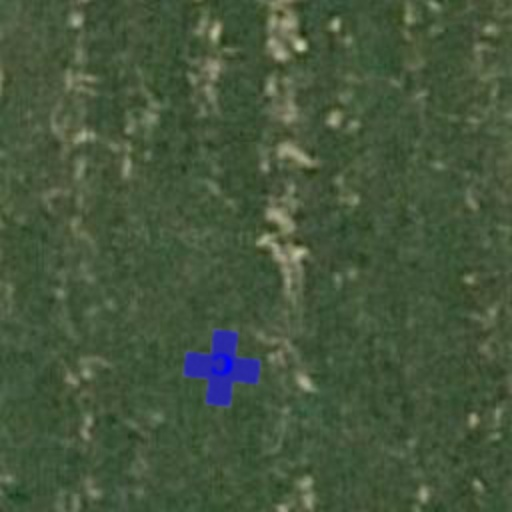cross: (180, 326, 264, 410)
